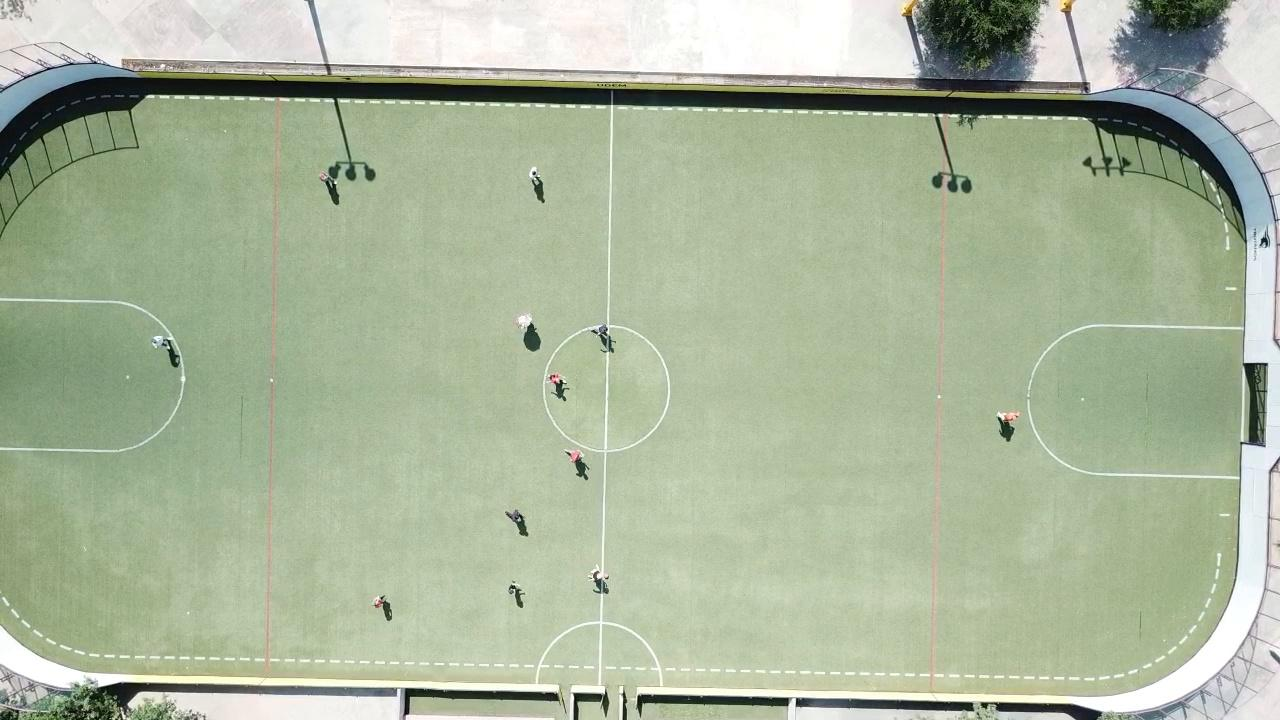ball: (604, 573, 610, 579)
player: (589, 324, 609, 343), (516, 313, 533, 332), (565, 449, 585, 465), (996, 411, 1021, 423), (546, 373, 567, 387), (589, 565, 604, 583), (319, 170, 335, 186), (151, 335, 168, 350), (506, 509, 525, 522), (509, 580, 523, 595), (529, 166, 540, 185), (370, 596, 385, 609)
